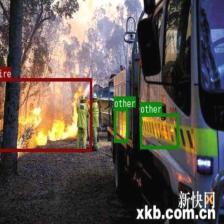fire: (0, 78, 91, 151)
